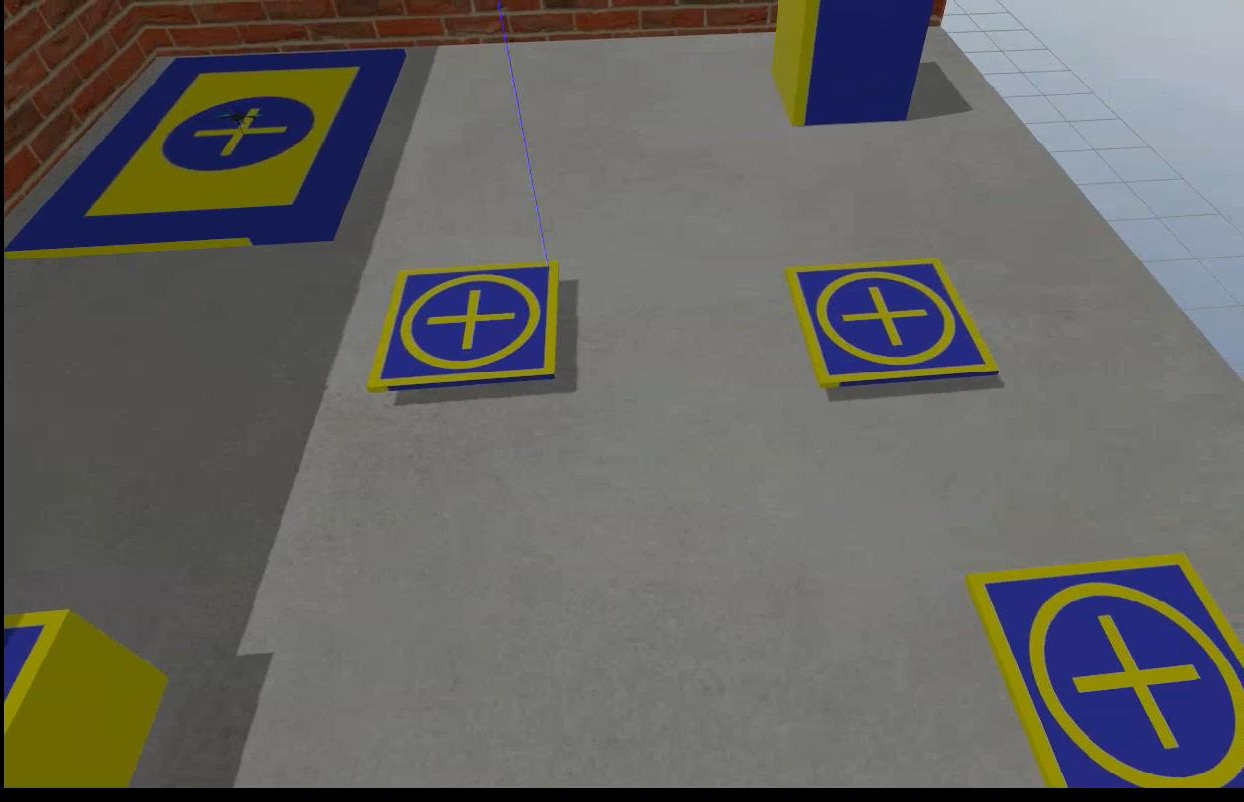large_base: (7, 45, 403, 263)
small_base: (962, 549, 1242, 787), (783, 245, 1001, 394), (362, 258, 560, 398)
